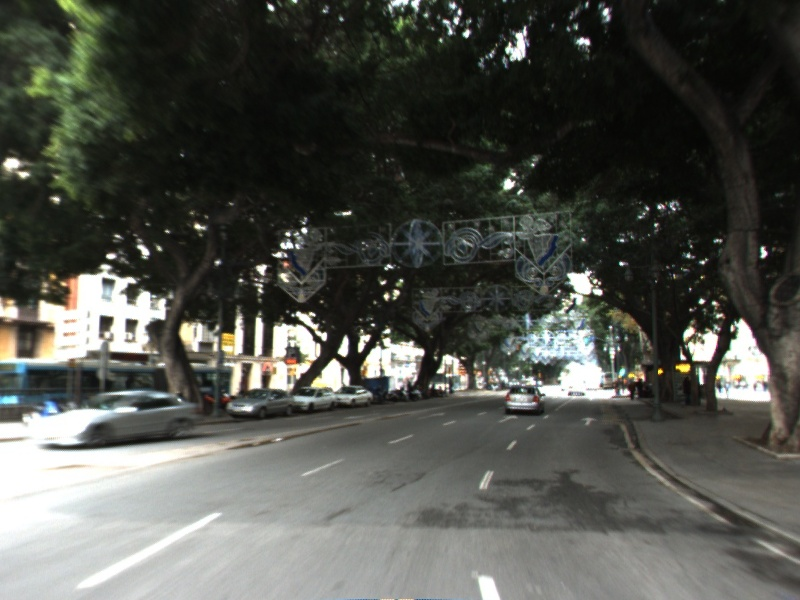STRAIGHT: (495, 412, 520, 425), (578, 414, 600, 428)
